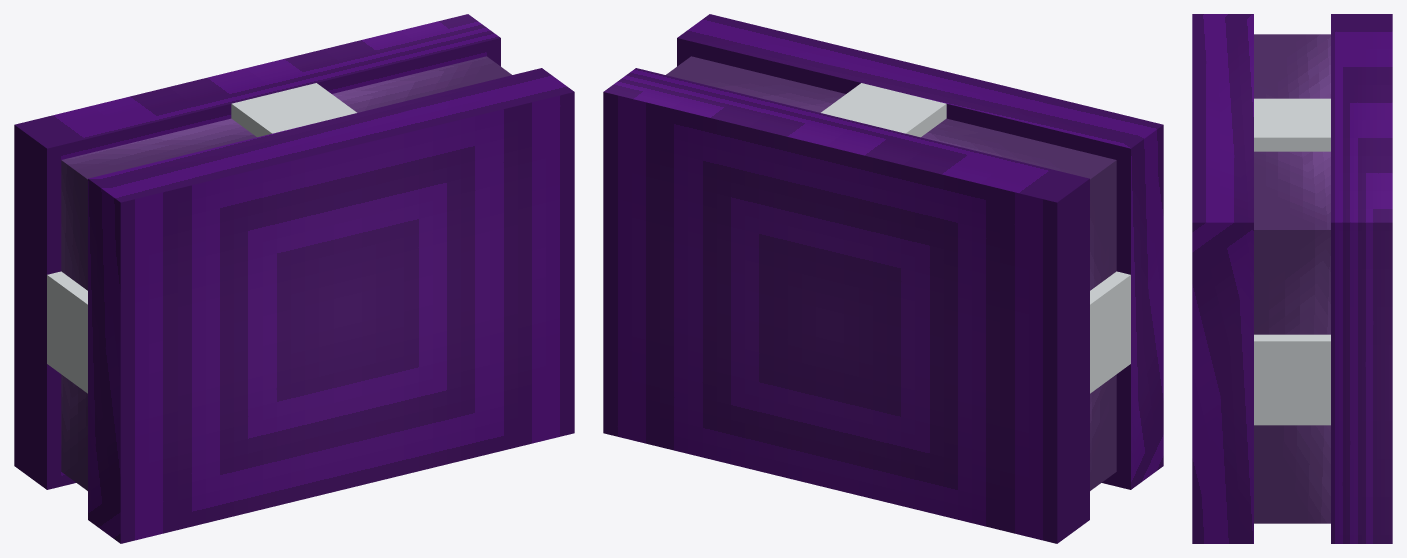
The model's file is BreakableWall.obj.
The picture shows the model from 3 angles, left to right: view 1: azimuth 30°, elevation 25°; view 2: azimuth 150°, elevation 25°; view 3: azimuth 270°, elevation 25°; orthographic projection. The views are drawn at different scales.
Visible parts, largest first — view 1: BreakableWall; view 2: BreakableWall; view 3: BreakableWall.
Boxes of the visible parts, <box> form: BreakableWall: <box>14,14,574,543</box>; BreakableWall: <box>603,14,1163,543</box>; BreakableWall: <box>1192,14,1392,543</box>.
Bounding box in the file's own units: 9.6 × 6.9 × 3.9.
